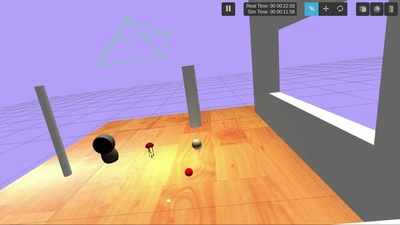mira_robot: (192, 139, 202, 149)
